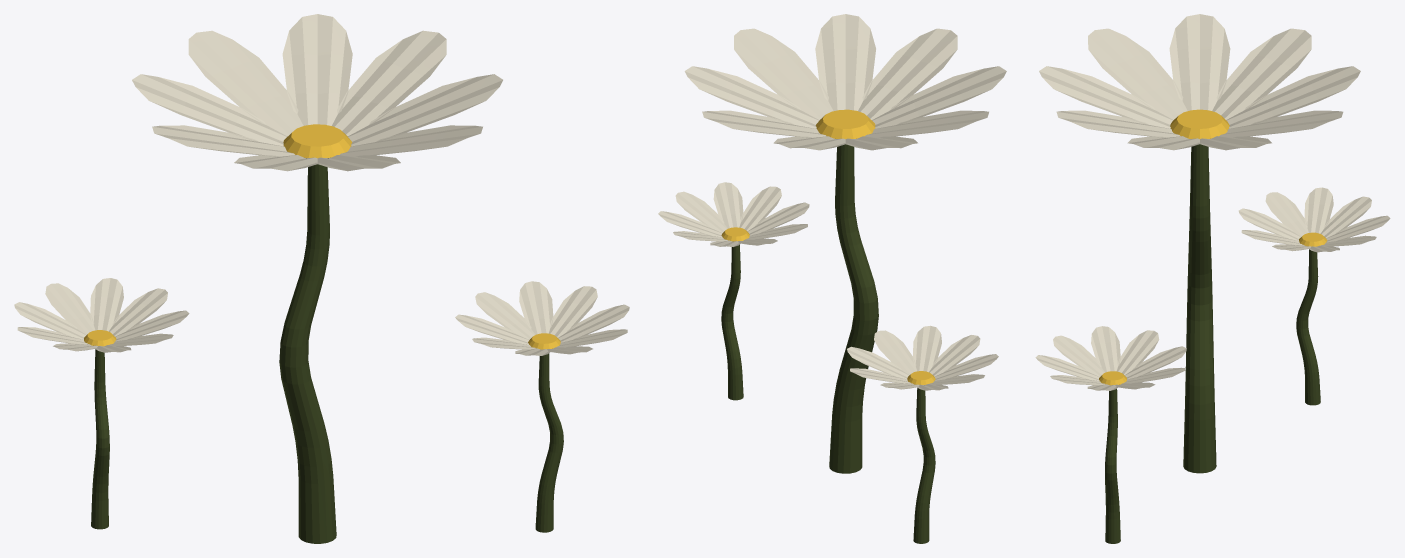
File: romashka1.fbx
The picture shows the model from 3 angles, left to right: view 1: azimuth 30°, elevation 25°; view 2: azimuth 150°, elevation 25°; view 3: azimuth 270°, elevation 25°; orthographic projection. The views are drawn at different scales.
Visible parts, largest first — view 1: Circle.003; view 2: Circle.003; view 3: Circle.003.
Part boxes in pixels (left/top/right/bottom): Circle.003: left=14, top=14, right=629, bottom=543; Circle.003: left=658, top=14, right=1006, bottom=543; Circle.003: left=1035, top=14, right=1390, bottom=543.
Bounding box in the file's own units: 160 × 140 × 118.
